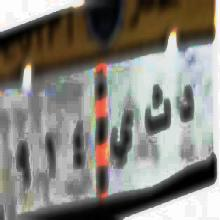1: (44, 130, 59, 180)
4: (71, 121, 86, 174)
9: (16, 138, 31, 190)
daal: (175, 71, 196, 131)
thaa: (140, 80, 172, 138)
yaa: (108, 105, 135, 168)
